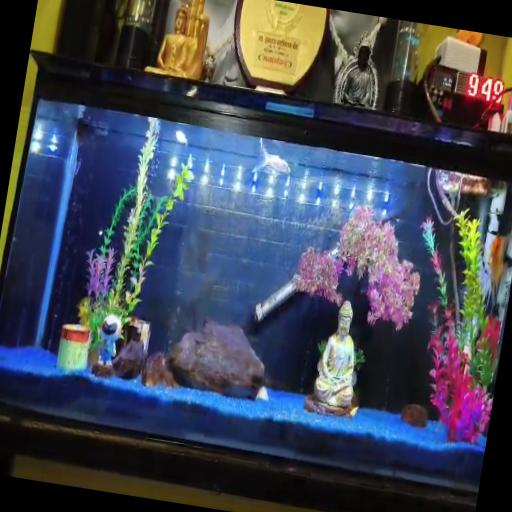Fish: (253, 140, 290, 175), (488, 236, 511, 291), (457, 29, 483, 46)
